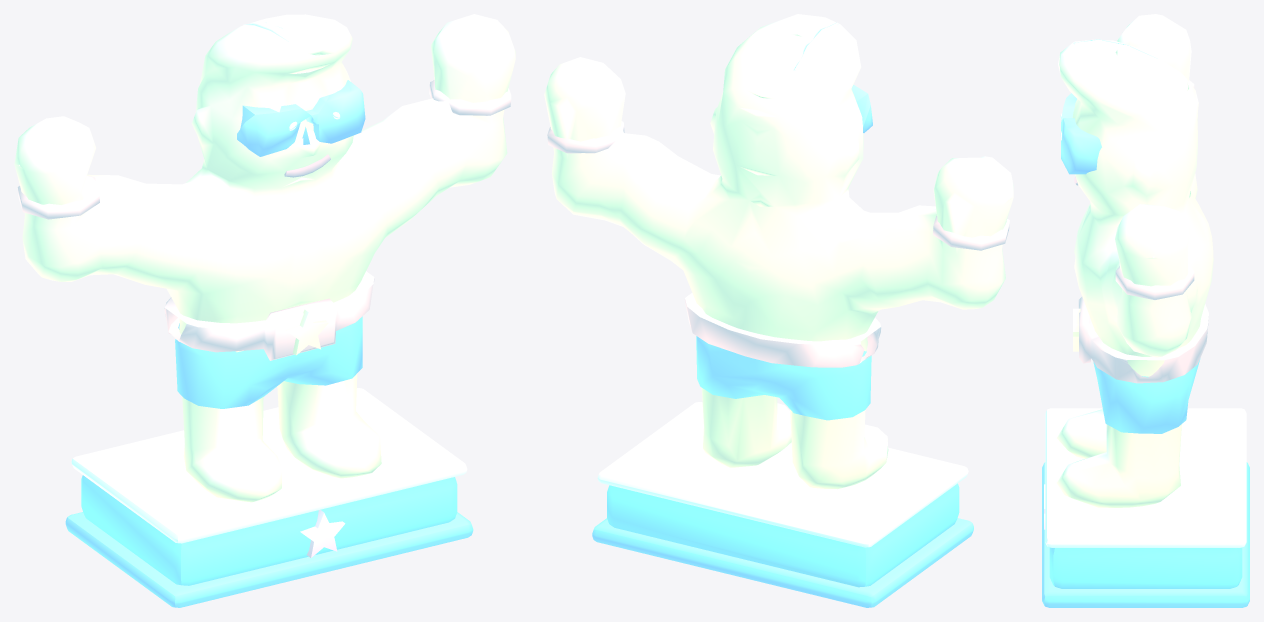
File: props__GigaStatue.glb
3 views of the same model, side by side, from view 1: azimuth 30°, elevation 25°; view 2: azimuth 150°, elevation 25°; view 3: azimuth 270°, elevation 25° (orthographic). The views are drawn at different scales.
Visible parts, largest first — view 1: GigaStatue; view 2: GigaStatue; view 3: GigaStatue.
Part boxes in pixels (<box>): GigaStatue: <box>14,14,515,607</box>; GigaStatue: <box>544,14,1013,607</box>; GigaStatue: <box>1042,14,1249,607</box>.
Size of the model in its own units: 20.8 by 21.38 by 8.2.
